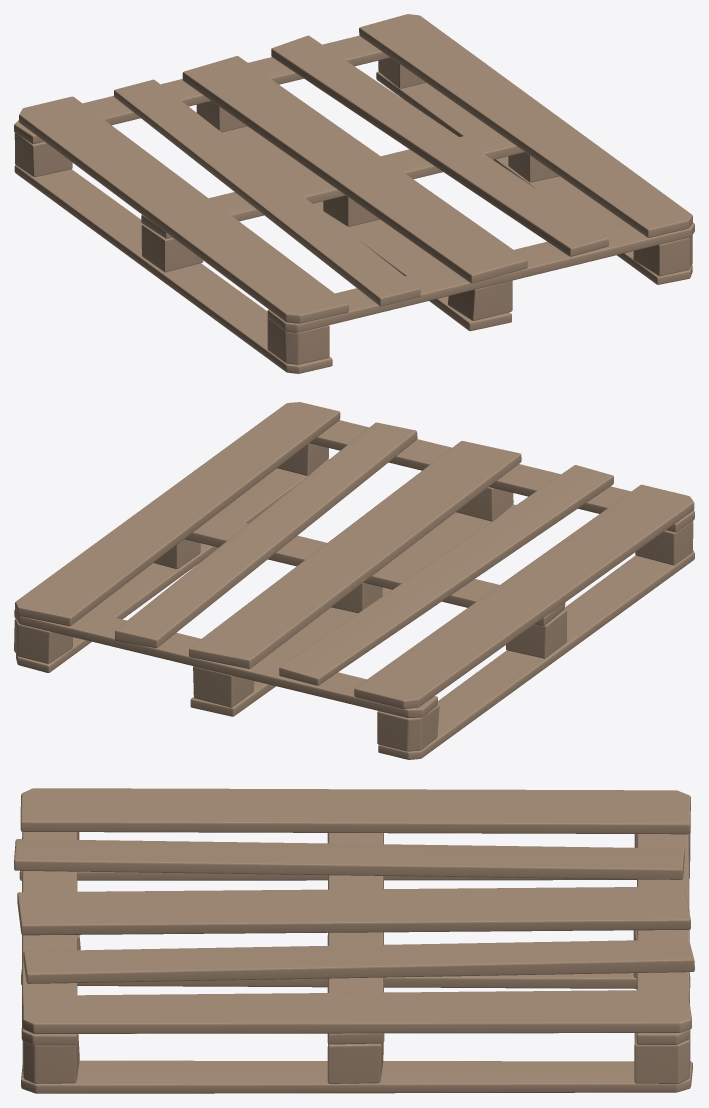
3 views of the same model, one above another, from view 1: azimuth 30°, elevation 25°; view 2: azimuth 150°, elevation 25°; view 3: azimuth 270°, elevation 25° (orthographic). The views are drawn at different scales.
Parts seen in each view (by area): view 1: pCube26; view 2: pCube26; view 3: pCube26.
Part boxes in pixels (x1,y1,x2,y2): pCube26: (14, 14, 694, 373); pCube26: (14, 402, 694, 759); pCube26: (14, 788, 694, 1093).
Bounding box in the file's own units: 101 × 14.38 × 122.
